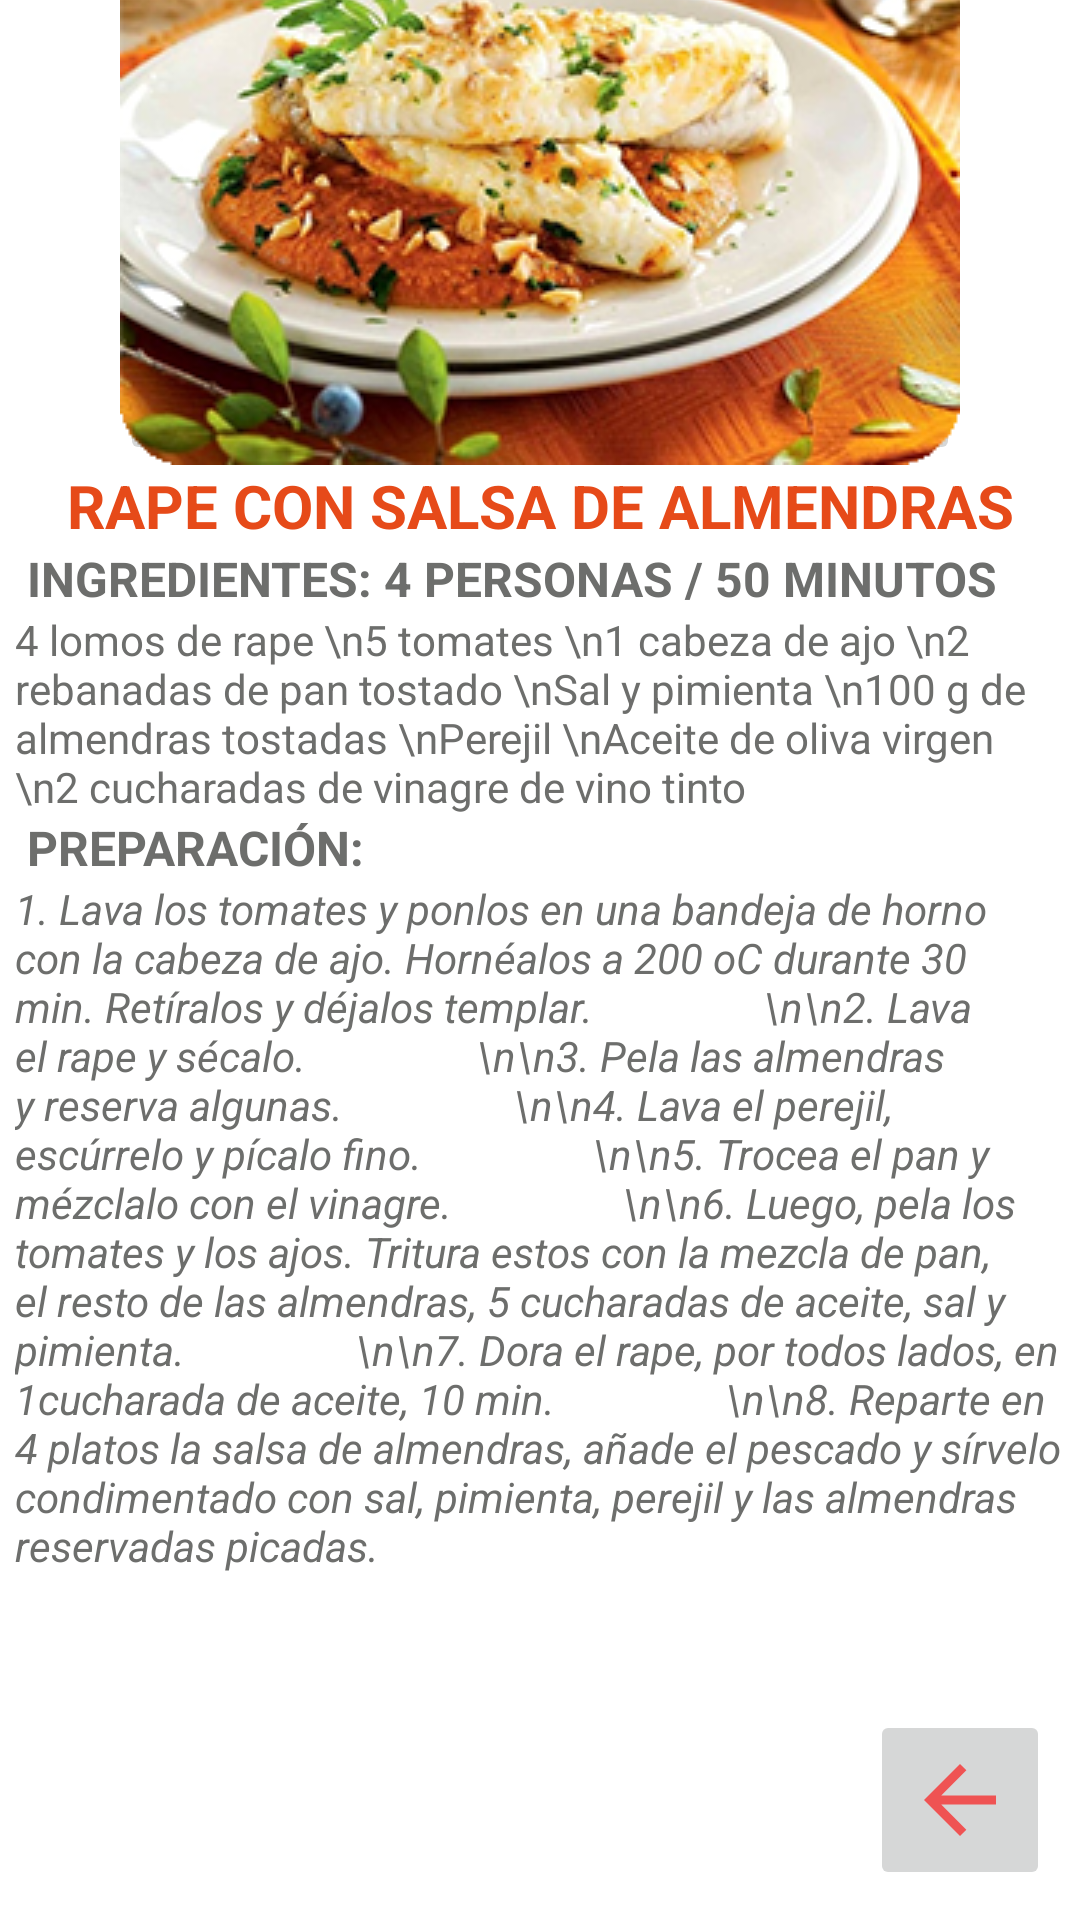

Locate icon controls on the screen. Image size 1080 × 1920, boxes as (x1, y1, x2, y2).
arrow back: (882, 1728, 1038, 1872)
